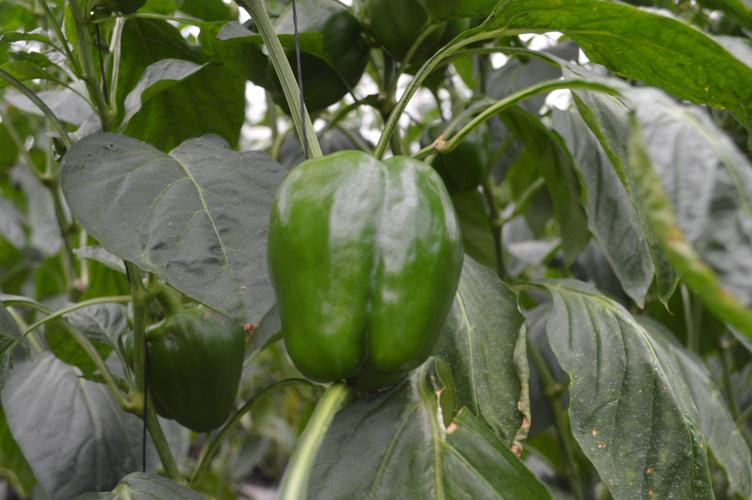BellPepper: (263, 148, 473, 389), (111, 298, 256, 429)
